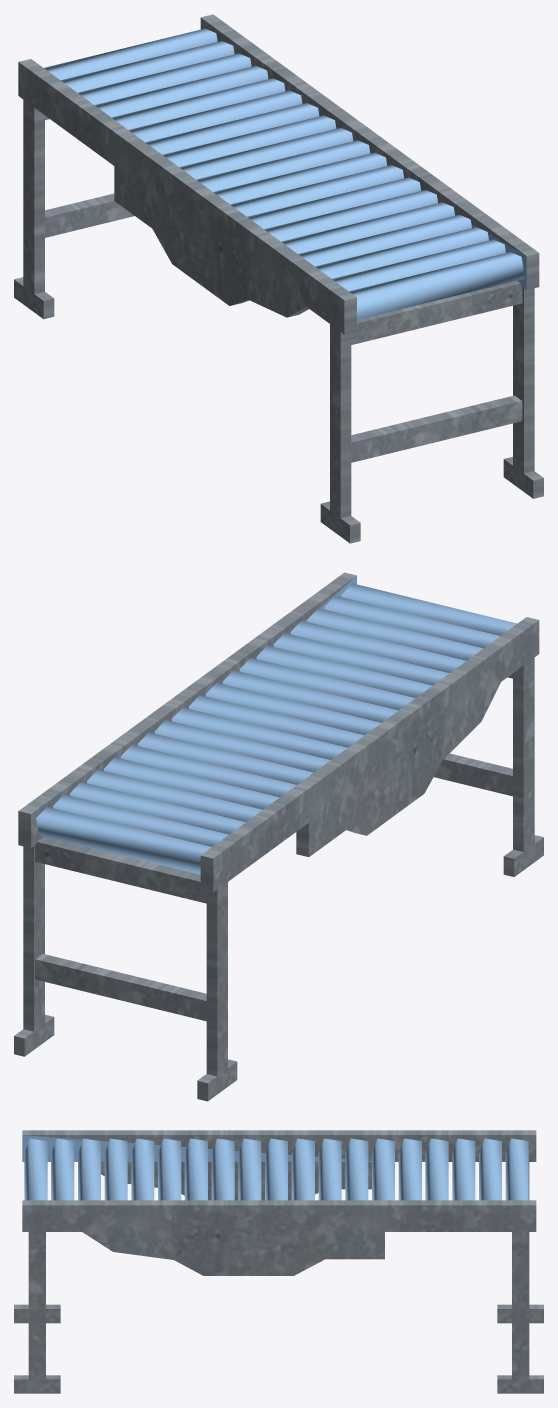
Rendered from con1.dae.
The picture shows the model from 3 angles, top to bottom: view 1: azimuth 30°, elevation 25°; view 2: azimuth 150°, elevation 25°; view 3: azimuth 270°, elevation 25°; orthographic projection. The views are drawn at different scales.
Visible parts, largest first — view 1: LOD_1; view 2: LOD_1; view 3: LOD_1.
Boxes of the visible parts, x1,y1,x2,y2 form: LOD_1: (14, 14, 543, 543); LOD_1: (14, 572, 543, 1101); LOD_1: (14, 1130, 543, 1393).
Bounding box in the file's own units: 3.81 × 11.39 × 4.48.
